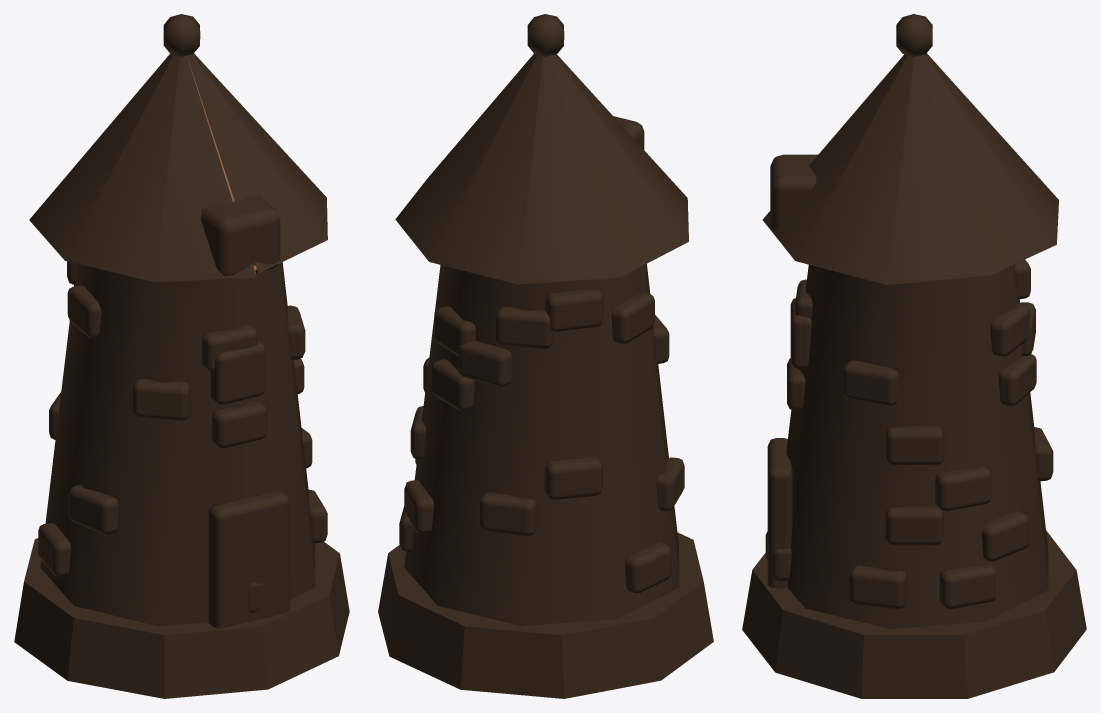
Rendered from painted-windmill.glb.
The picture shows the model from 3 angles, left to right: view 1: azimuth 30°, elevation 25°; view 2: azimuth 150°, elevation 25°; view 3: azimuth 270°, elevation 25°; orthographic projection.
Parts seen in each view (by area): view 1: painted-windmill-outline; view 2: painted-windmill-outline; view 3: painted-windmill-outline.
Part boxes in pixels (left/top/right/bottom): painted-windmill-outline: left=14, top=14, right=349, bottom=698; painted-windmill-outline: left=378, top=14, right=713, bottom=698; painted-windmill-outline: left=742, top=14, right=1086, bottom=698.
Size of the model in its own units: 1.37 by 2.84 by 1.44.
